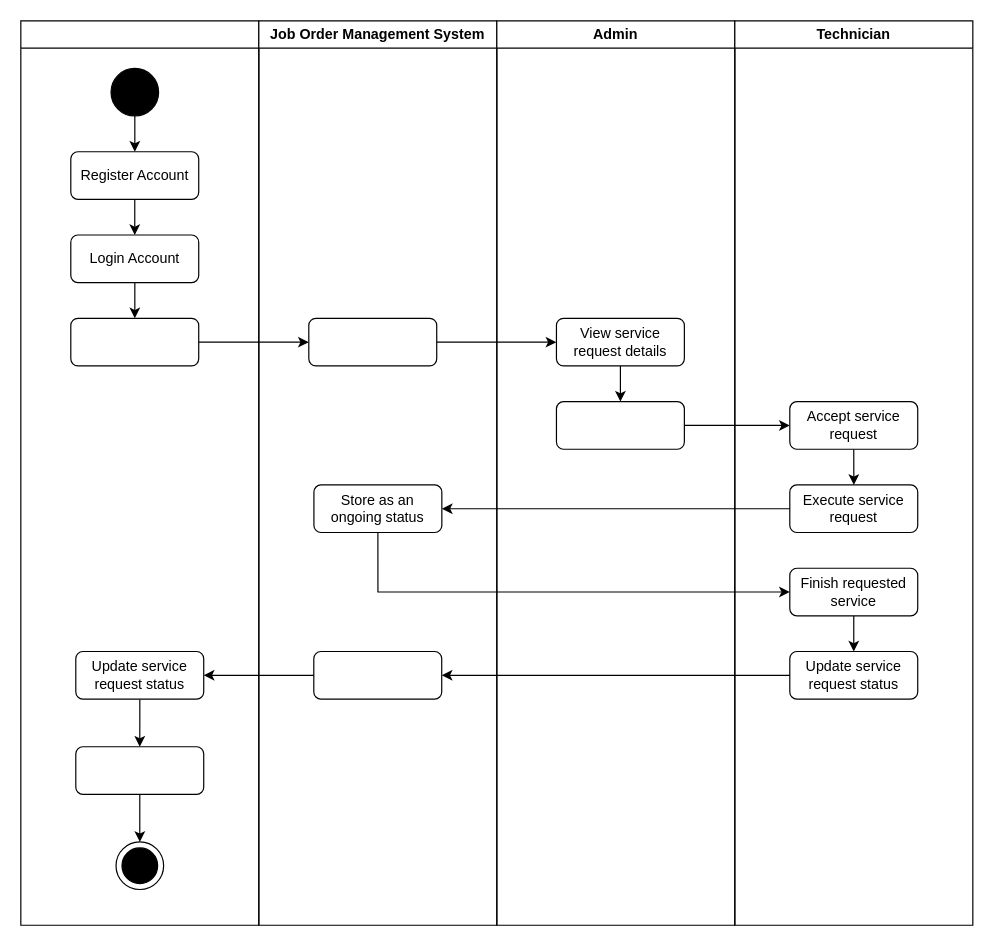
Image size: 994x946. Some labels were removed from this diagram. The box of each missing label's shape, as (x1, y1, x2, y2) in pixels:
Add rating and remarks: (75, 746, 204, 794)
Assign available technician: (555, 400, 684, 449)
Customer: (20, 20, 259, 925)
Notify Customer: (313, 650, 442, 699)
Request a service: (70, 317, 199, 366)
Store as pending request: (308, 317, 437, 366)
